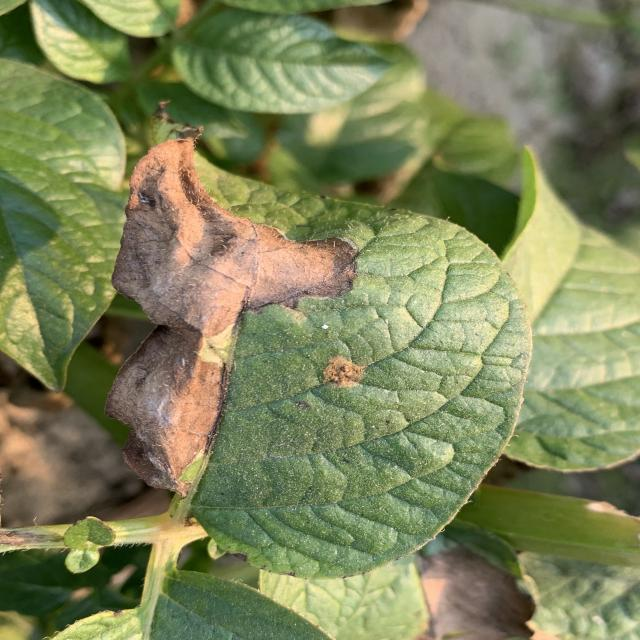lateblight: (107, 128, 358, 495), (323, 356, 367, 388)
